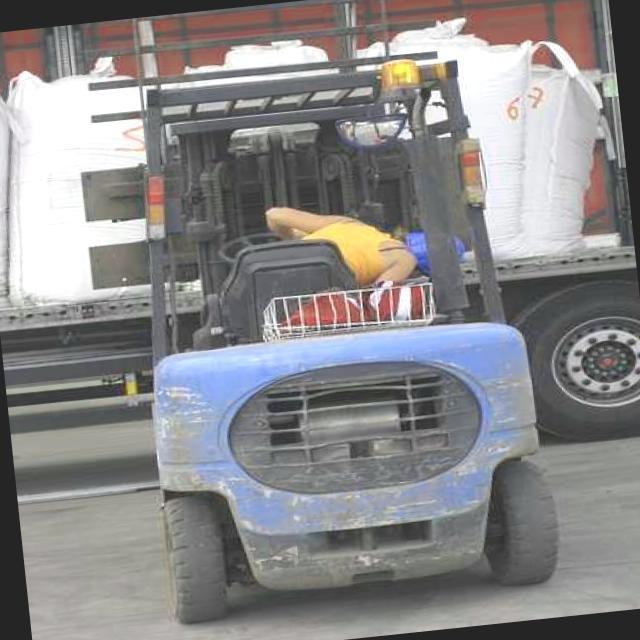driver: (223, 182, 458, 306)
forklift: (110, 37, 562, 627)
